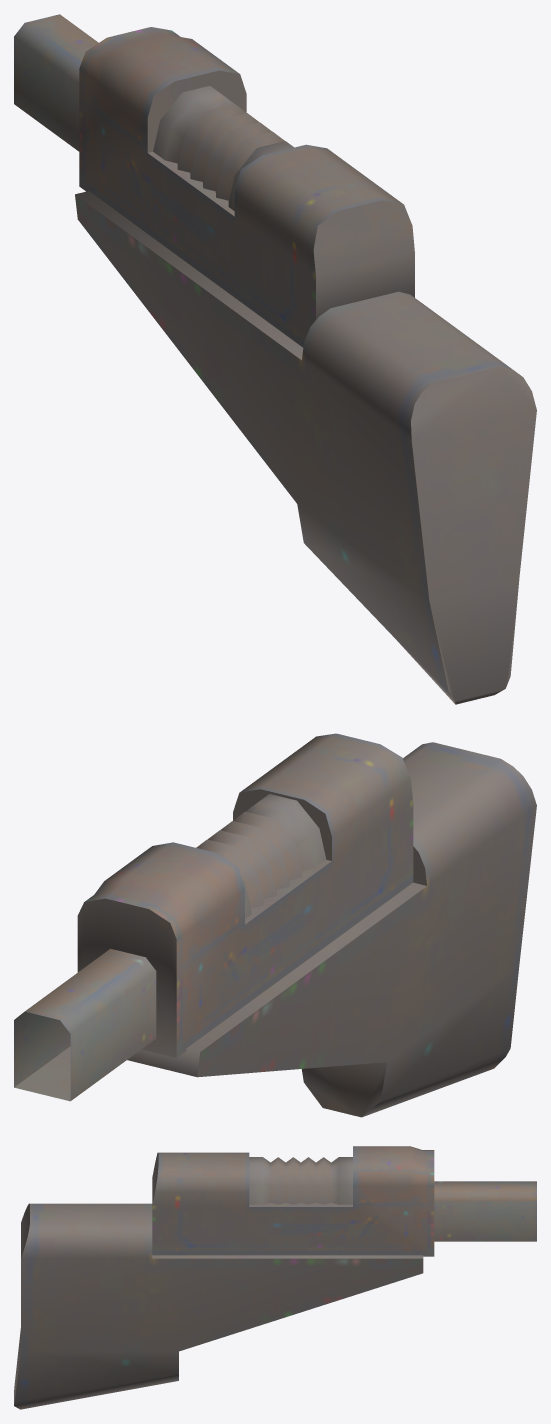
The model's file is stock2.obj.
The picture shows the model from 3 angles, top to bottom: view 1: azimuth 30°, elevation 25°; view 2: azimuth 150°, elevation 25°; view 3: azimuth 270°, elevation 25°; orthographic projection. The views are drawn at different scales.
Parts seen in each view (by area): view 1: stock2; view 2: stock2; view 3: stock2.
Boxes of the visible parts, x1,y1,x2,y2 form: stock2: (14, 14, 536, 704); stock2: (14, 733, 536, 1117); stock2: (14, 1146, 536, 1409).
Bounding box in the file's own units: 5.54 × 17.74 × 33.56.
